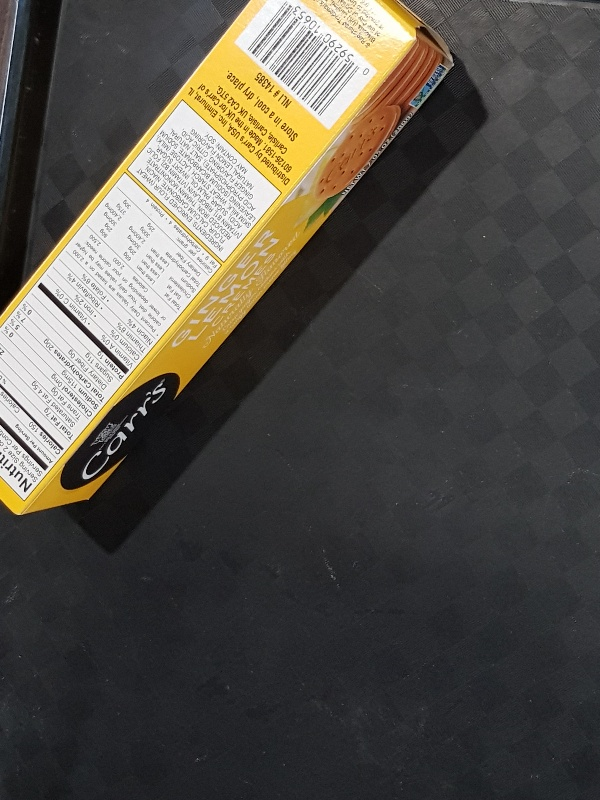Carr's Ginger Lemon Cremes: (1, 1, 453, 516)
